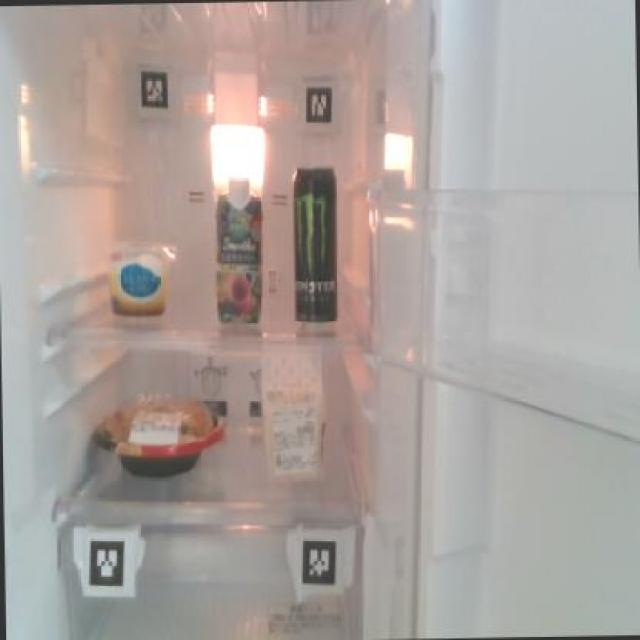bento: (90, 395, 225, 483)
energy_drink: (290, 159, 338, 327)
pudding: (104, 232, 176, 321)
sandwich: (259, 346, 332, 480)
smoothie: (210, 172, 265, 326)
